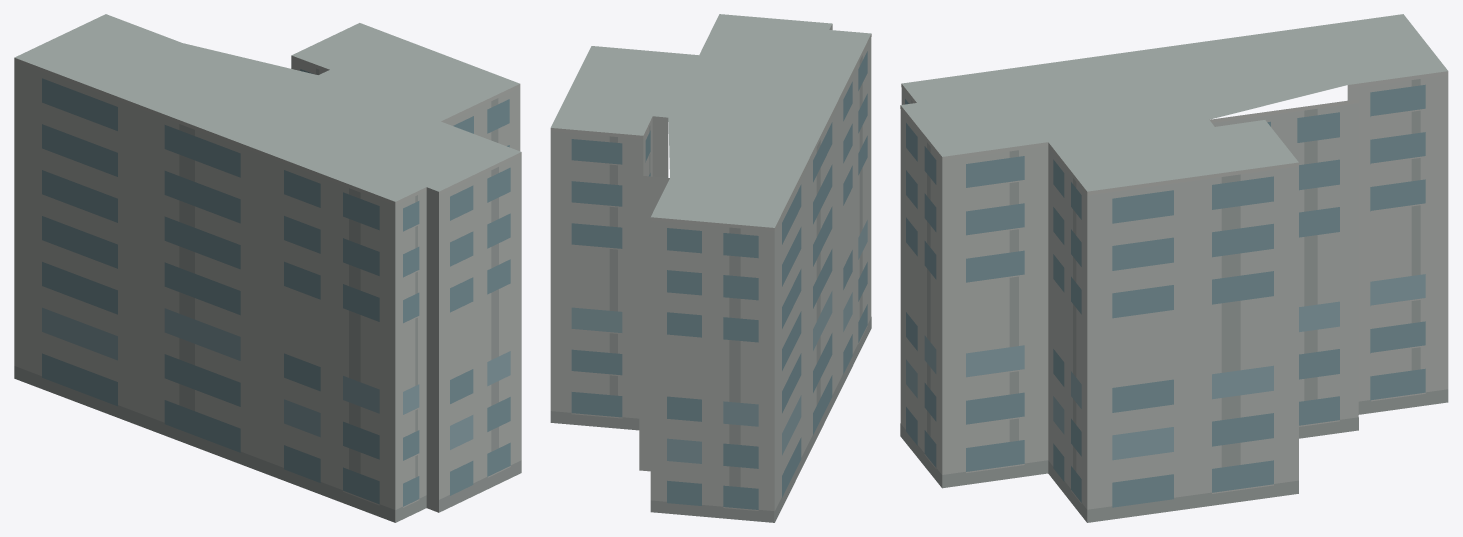
The model's file is survey-upis-33023092.glb.
The picture shows the model from 3 angles, left to right: view 1: azimuth 30°, elevation 25°; view 2: azimuth 150°, elevation 25°; view 3: azimuth 270°, elevation 25°; orthographic projection. The views are drawn at different scales.
Visible parts, largest first — view 1: survey-upis-33023092.tmp; view 2: survey-upis-33023092.tmp; view 3: survey-upis-33023092.tmp.
Boxes of the visible parts, box(x1,y1,x2,y2) form: survey-upis-33023092.tmp: box(14, 14, 521, 522); survey-upis-33023092.tmp: box(550, 14, 871, 522); survey-upis-33023092.tmp: box(900, 14, 1448, 522).
Bounding box in the file's own units: 23.52 × 20.45 × 30.66.
